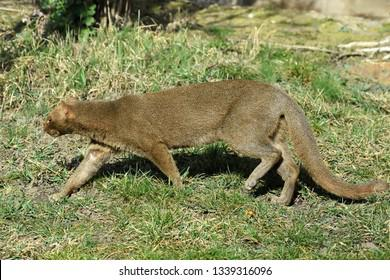Jaguarundi: (38, 78, 386, 211)
